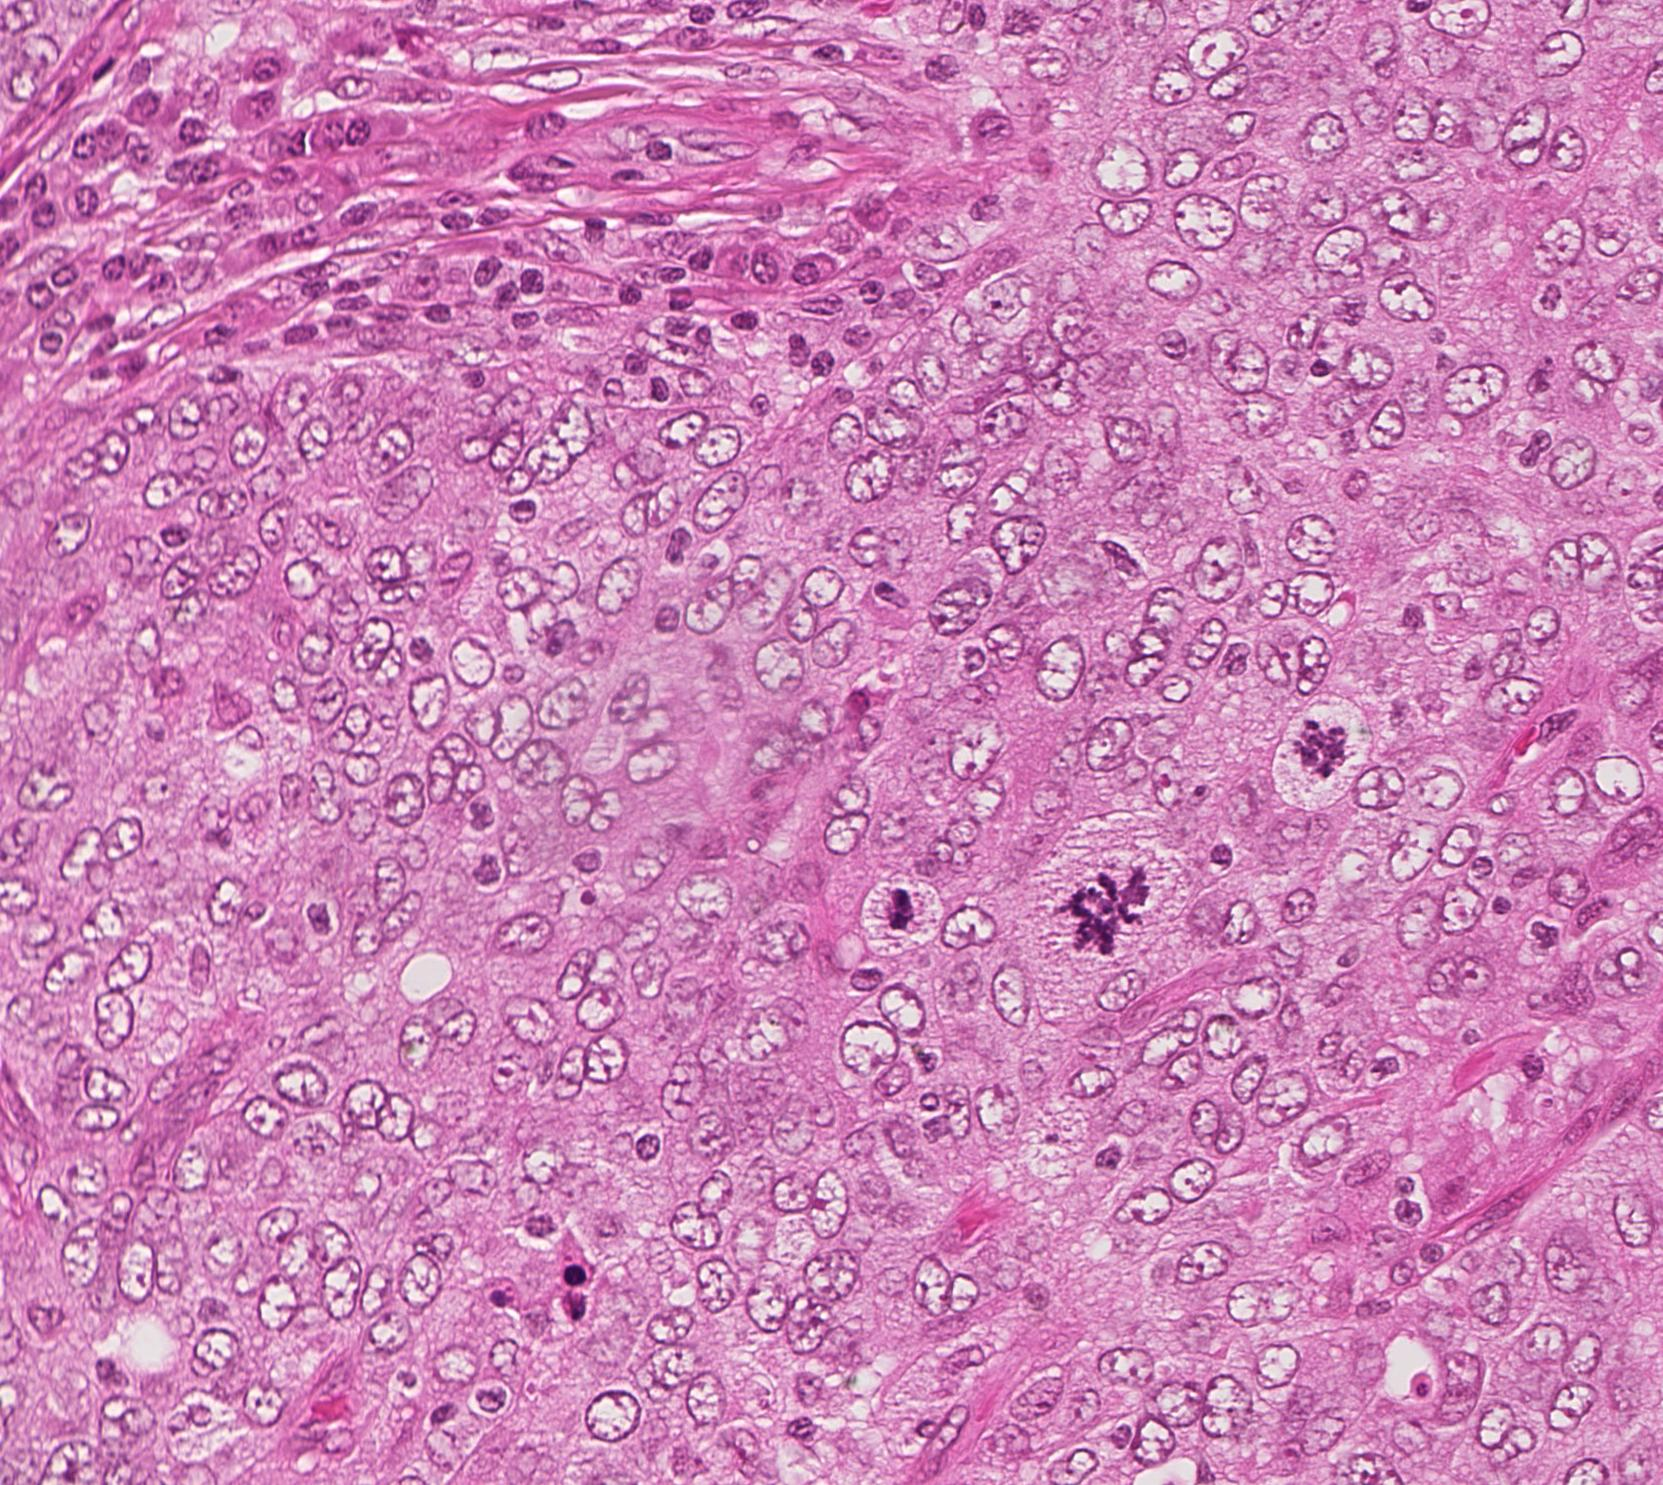mitosis: (1287, 722, 1348, 783), (1094, 880, 1154, 940), (873, 879, 933, 937)
